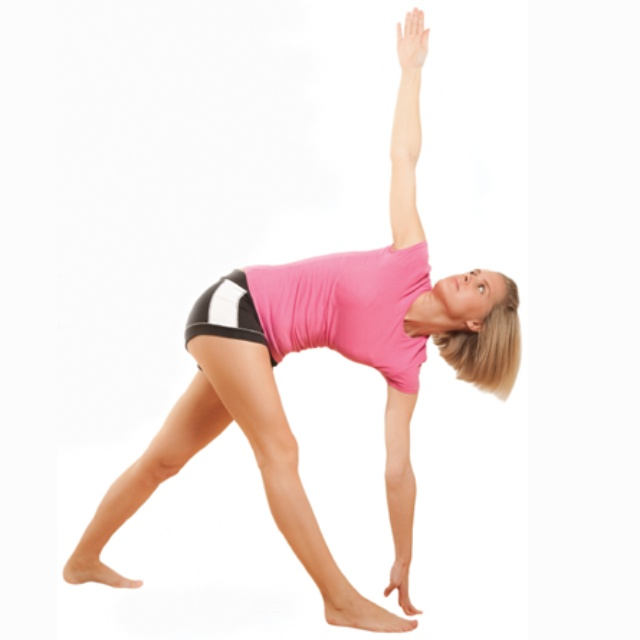Triangle_Pose: (56, 6, 533, 636)
